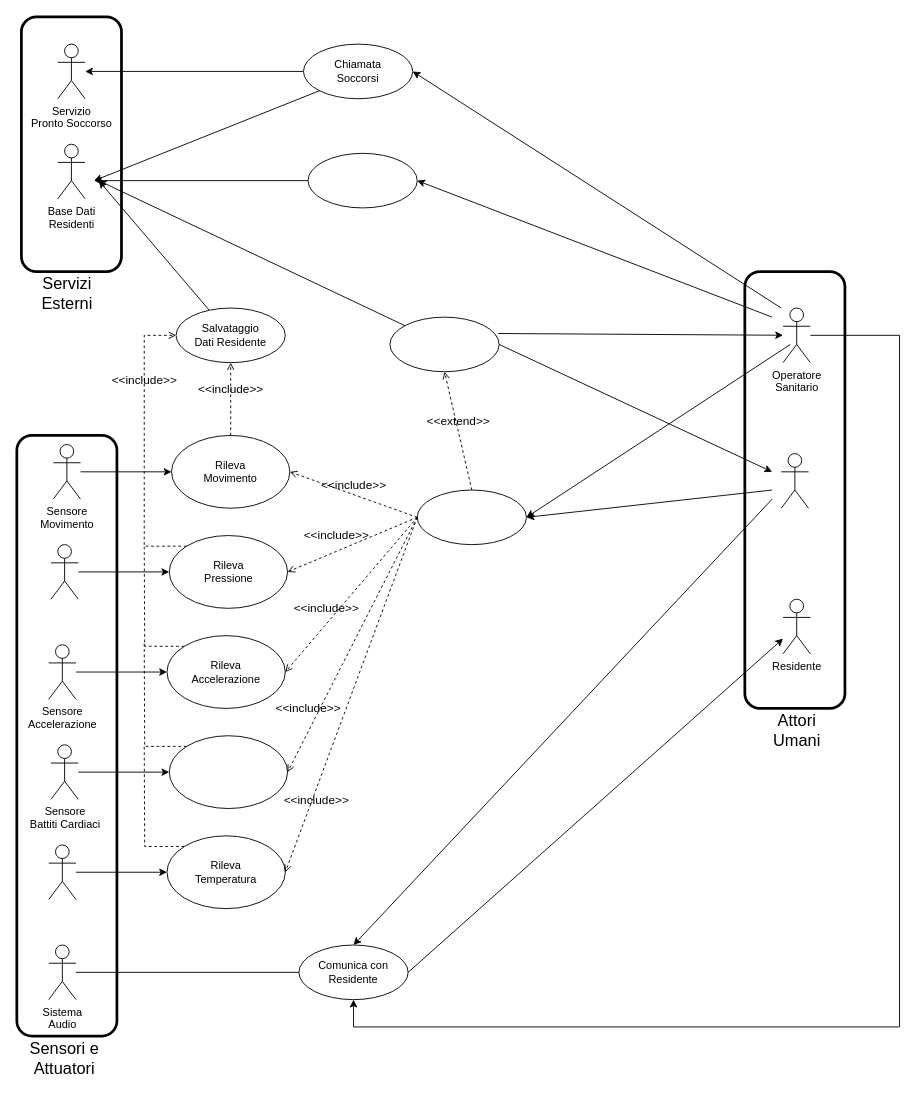
Image size: 923x1094. Some labels were removed from this diagram. The box of each missing label's shape, as (x1, y1, x2, y2) in pixels:
Controllo Storico: (307, 152, 417, 208)
Famigliare: (780, 453, 809, 508)
Monitoraggio Anomalie/Emergenze: (416, 489, 526, 545)
Notifica Emergenza: (389, 316, 499, 372)
Rileva Battiti Cardiaci: (168, 735, 288, 809)
Sensore Pressione: (50, 544, 78, 599)
Sensore Temperatura: (48, 844, 76, 900)
